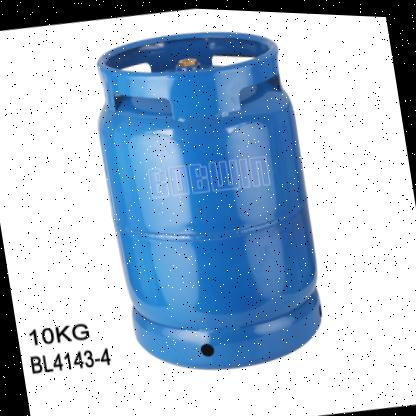gas-tank: (66, 2, 357, 404)
